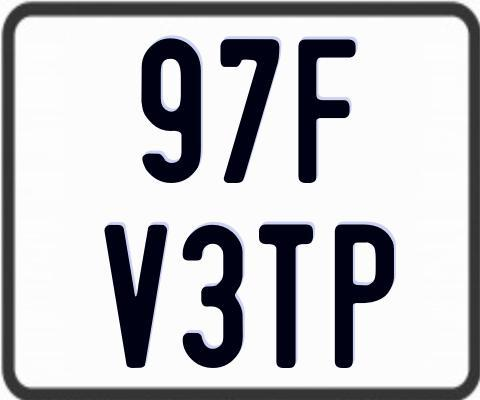3: (180, 223, 242, 371)
7: (219, 38, 283, 188)
9: (141, 36, 203, 183)
F: (296, 37, 358, 184)
P: (335, 224, 400, 371)
T: (257, 222, 316, 370)
V: (104, 223, 169, 372)
